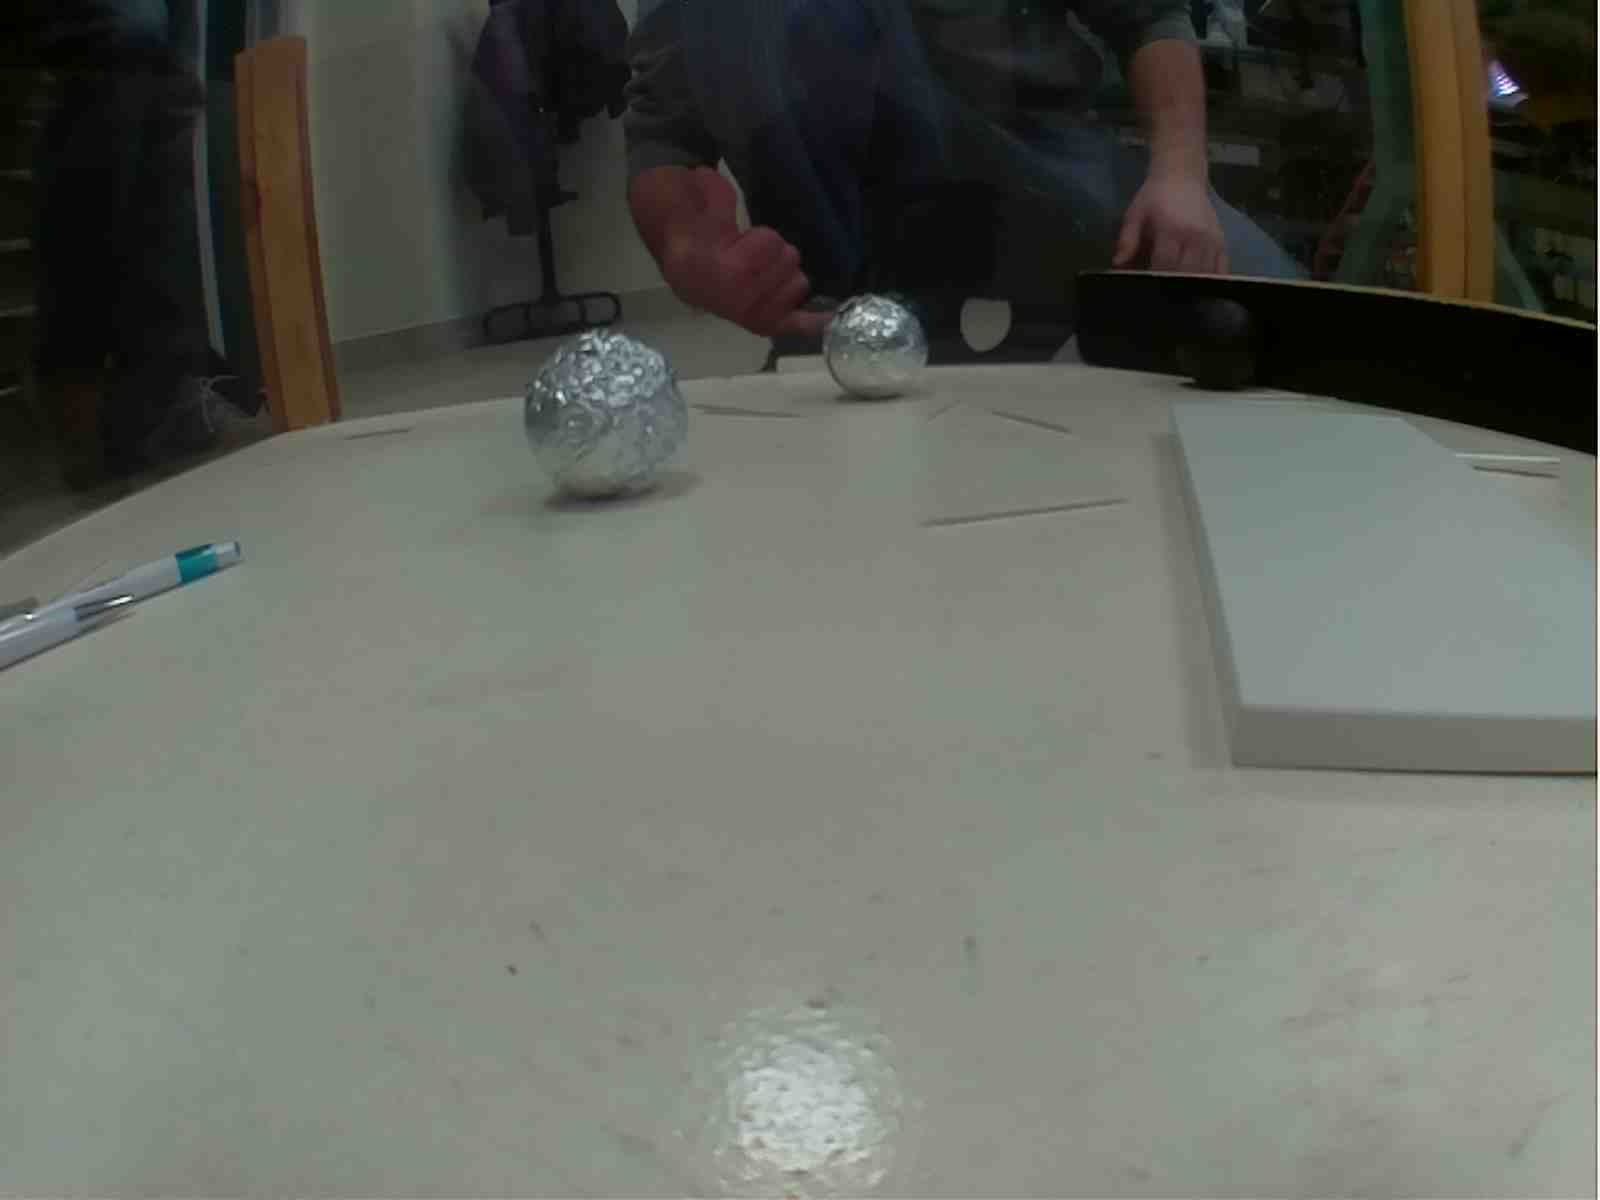bianca: (523, 334, 683, 502), (821, 295, 929, 402)
